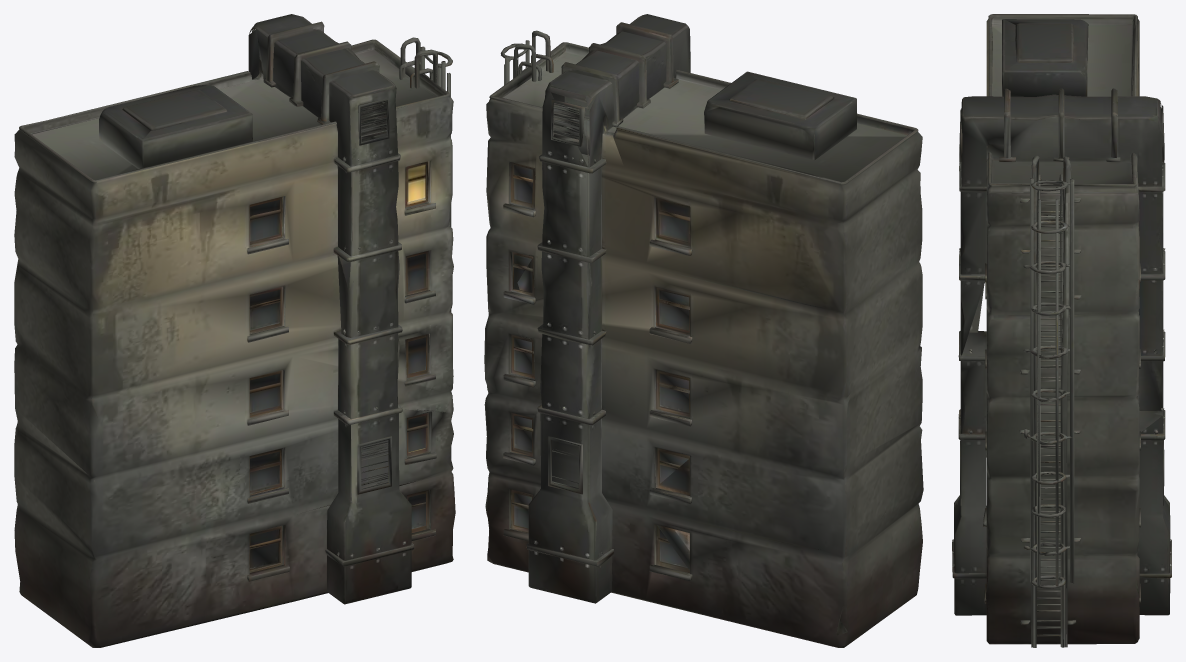
File: kodas-building.glb
3 views of the same model, side by side, from view 1: azimuth 30°, elevation 25°; view 2: azimuth 150°, elevation 25°; view 3: azimuth 270°, elevation 25° (orthographic). The views are drawn at different scales.
Size of the model in its own units: 0.7603 by 0.9517 by 0.3793.
1 material, 1 textured.
